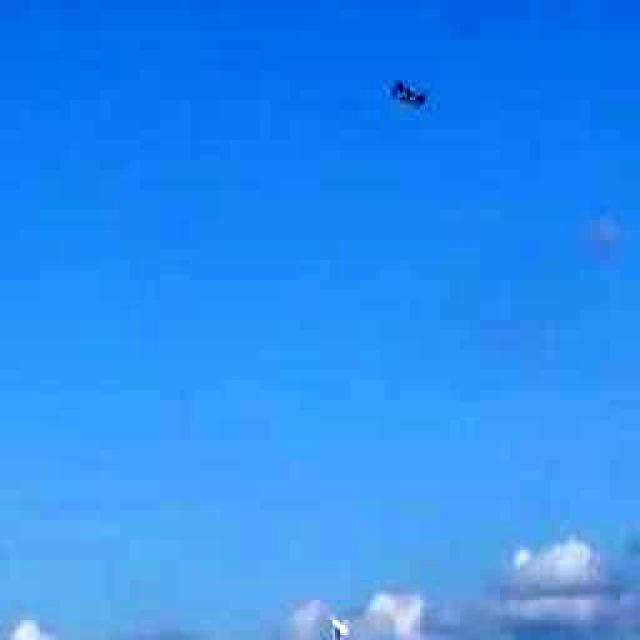bird: (335, 21, 490, 189), (305, 585, 378, 640)
